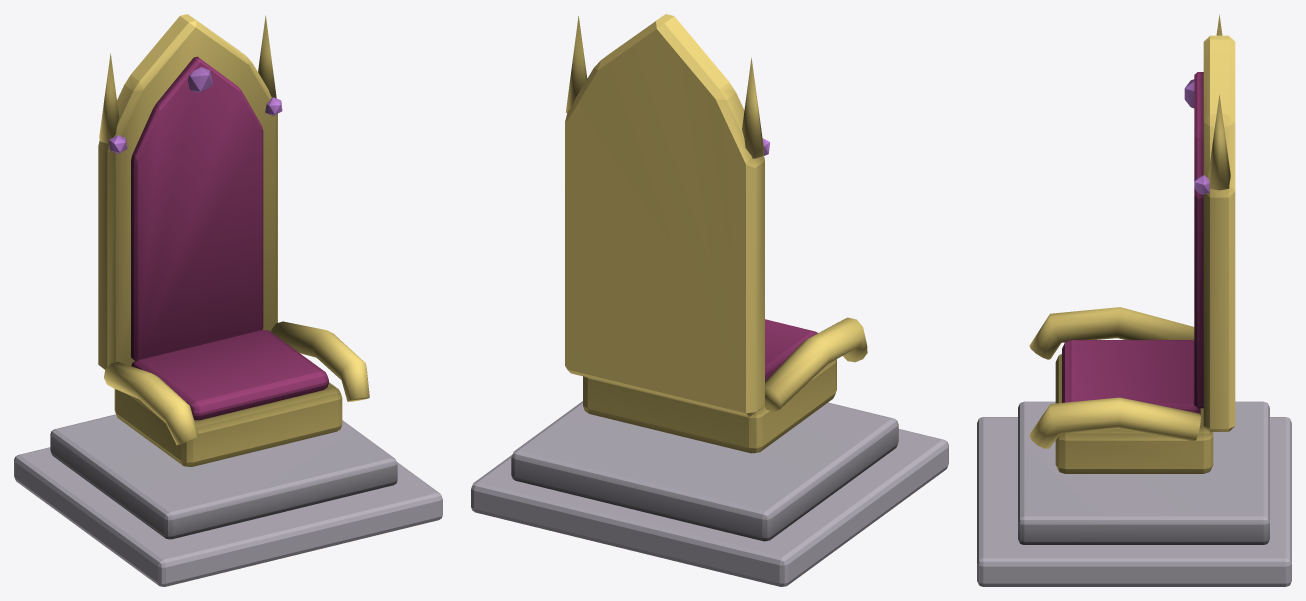
File: throne.fbx
The picture shows the model from 3 angles, left to right: view 1: azimuth 30°, elevation 25°; view 2: azimuth 150°, elevation 25°; view 3: azimuth 270°, elevation 25°; orthographic projection. The views are drawn at different scales.
Parts seen in each view (by area): view 1: BackCloth, Dais.001, Dais, Back, Cushion, Seat, Arm, Arm.001, Spire.001, Spire; view 2: Back, Dais.001, Dais, Seat, Arm.001, Cushion, Spire.001, Spire; view 3: Dais.001, Dais, Back, Cushion, Seat, Arm, Arm.001, BackCloth, Spire.
Boxes of the visible parts, x1,y1,x2,y2 form: BackCloth: (131, 56, 263, 360); Dais.001: (50, 414, 397, 539); Dais: (14, 447, 442, 586); Back: (98, 14, 277, 369); Cushion: (131, 329, 328, 420); Seat: (114, 382, 342, 466); Arm: (271, 321, 369, 401); Arm.001: (104, 362, 198, 444); Spire.001: (99, 53, 119, 143); Spire: (258, 15, 276, 98); Back: (565, 14, 764, 416); Dais.001: (511, 401, 898, 541); Dais: (471, 429, 948, 586); Seat: (583, 359, 836, 453); Arm.001: (765, 317, 867, 411); Cushion: (765, 319, 817, 381); Spire.001: (742, 57, 764, 158); Spire: (566, 16, 587, 112); Dais.001: (1018, 401, 1269, 544); Dais: (977, 417, 1291, 586); Back: (1203, 35, 1235, 431); Cushion: (1062, 340, 1200, 414); Seat: (1055, 354, 1213, 473); Arm: (1029, 397, 1200, 448); Arm.001: (1029, 307, 1194, 359); BackCloth: (1194, 72, 1203, 408); Spire: (1208, 94, 1230, 190).
Bounding box in the file's own units: 1.1 × 1.68 × 1.
